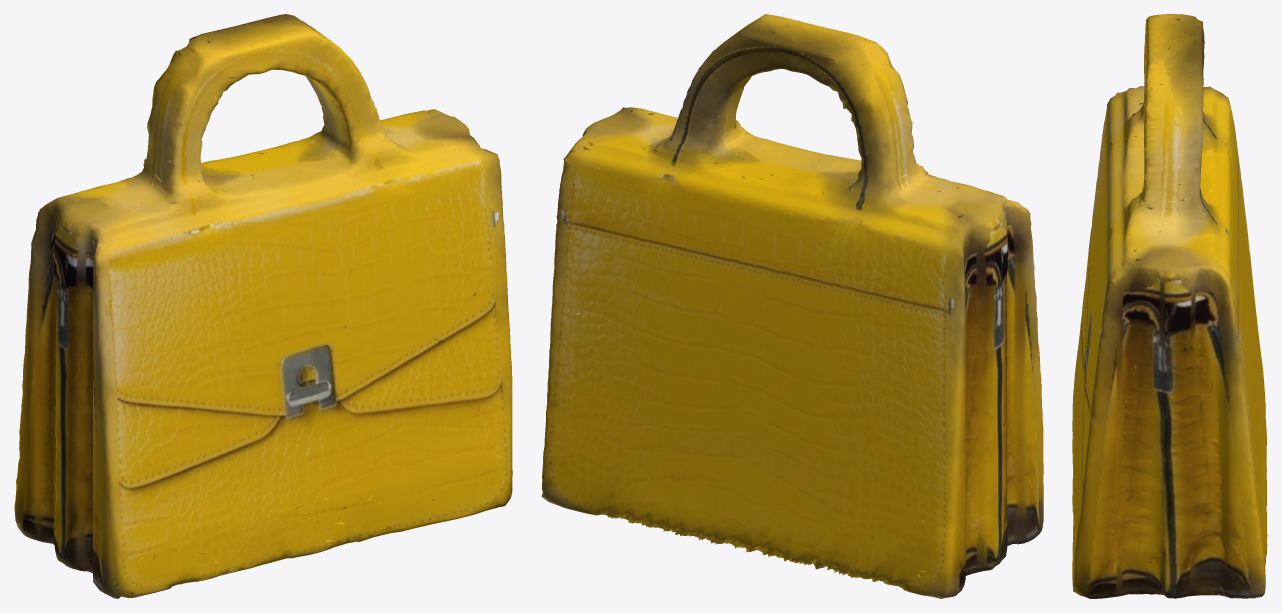
Rendered from art-103.glb.
The picture shows the model from 3 angles, left to right: view 1: azimuth 30°, elevation 25°; view 2: azimuth 150°, elevation 25°; view 3: azimuth 270°, elevation 25°; orthographic projection. The views are drawn at different scales.
Visible parts, largest first — view 1: geometry_0; view 2: geometry_0; view 3: geometry_0.
Boxes of the visible parts, box(x1,y1,x2,y2) form: geometry_0: box(14, 14, 512, 598); geometry_0: box(541, 14, 1043, 598); geometry_0: box(1072, 14, 1267, 598).
Bounding box in the file's own units: 0.2457 × 0.28 × 0.107.
1 material, 1 textured.
